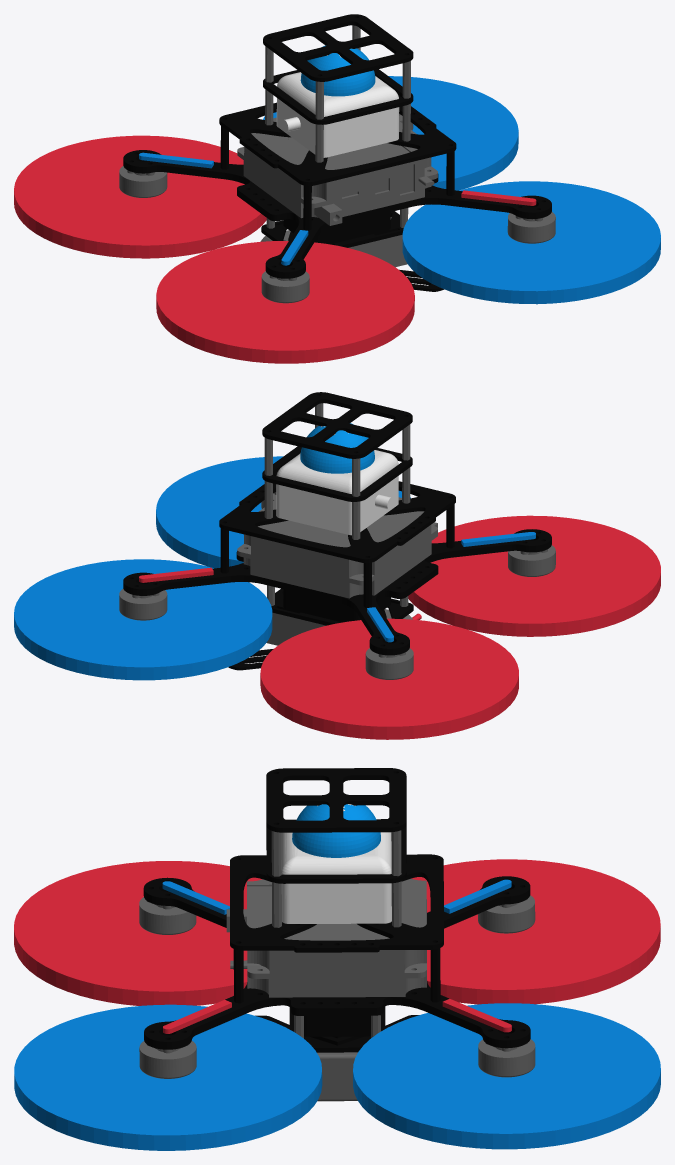
File: yunque.dae
3 renders of one model, top to bottom at view 1: azimuth 30°, elevation 25°; view 2: azimuth 150°, elevation 25°; view 3: azimuth 270°, elevation 25°, orthographic. The views are drawn at different scales.
Parts seen in each view (by area): view 1: yunque-M; view 2: yunque-M; view 3: yunque-M.
Boxes of the visible parts, x1,y1,x2,y2 form: yunque-M: (14, 14, 660, 363); yunque-M: (14, 392, 660, 739); yunque-M: (14, 768, 660, 1150).
Bounding box in the file's own units: 0.5248 × 0.5248 × 0.2424.
